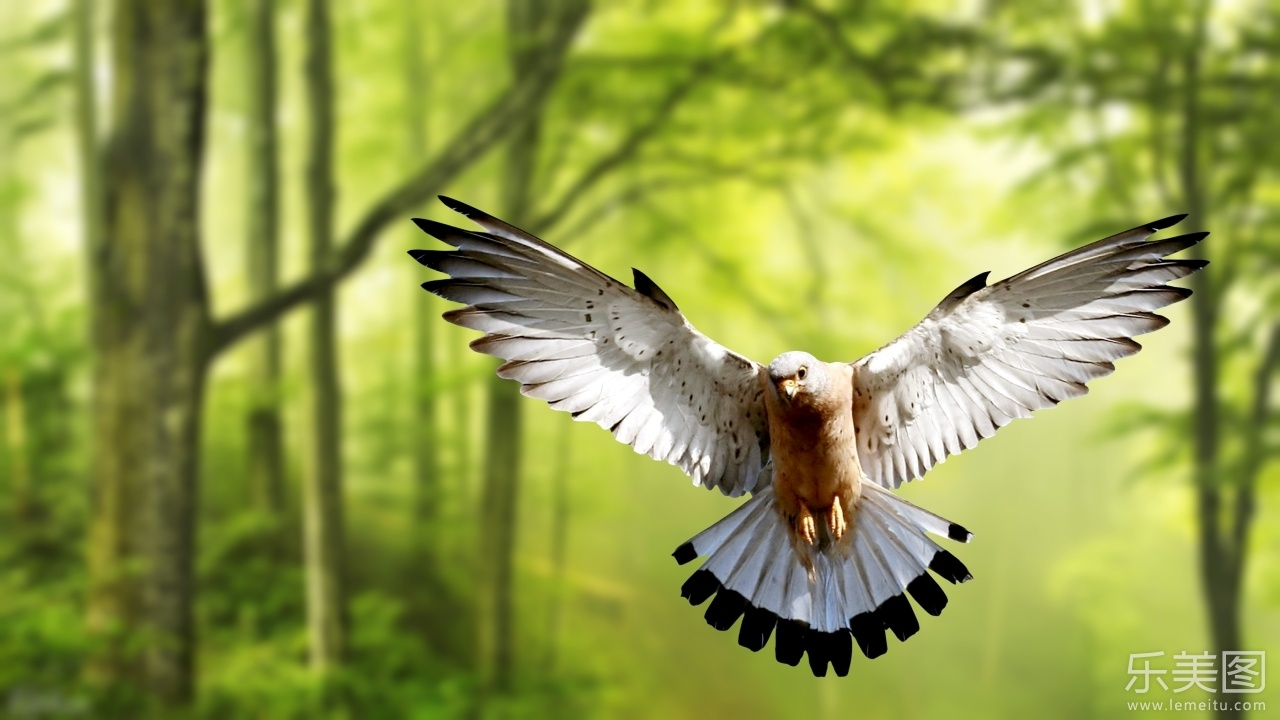bird: (409, 187, 1215, 669)
